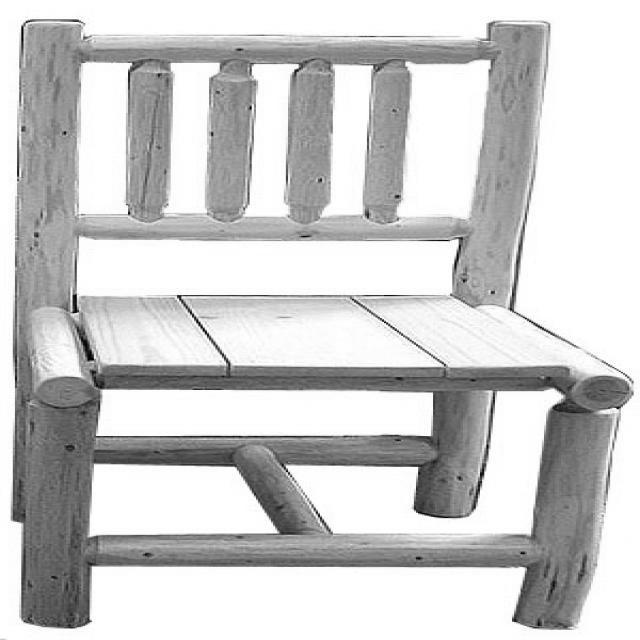chair: (2, 20, 637, 628)
